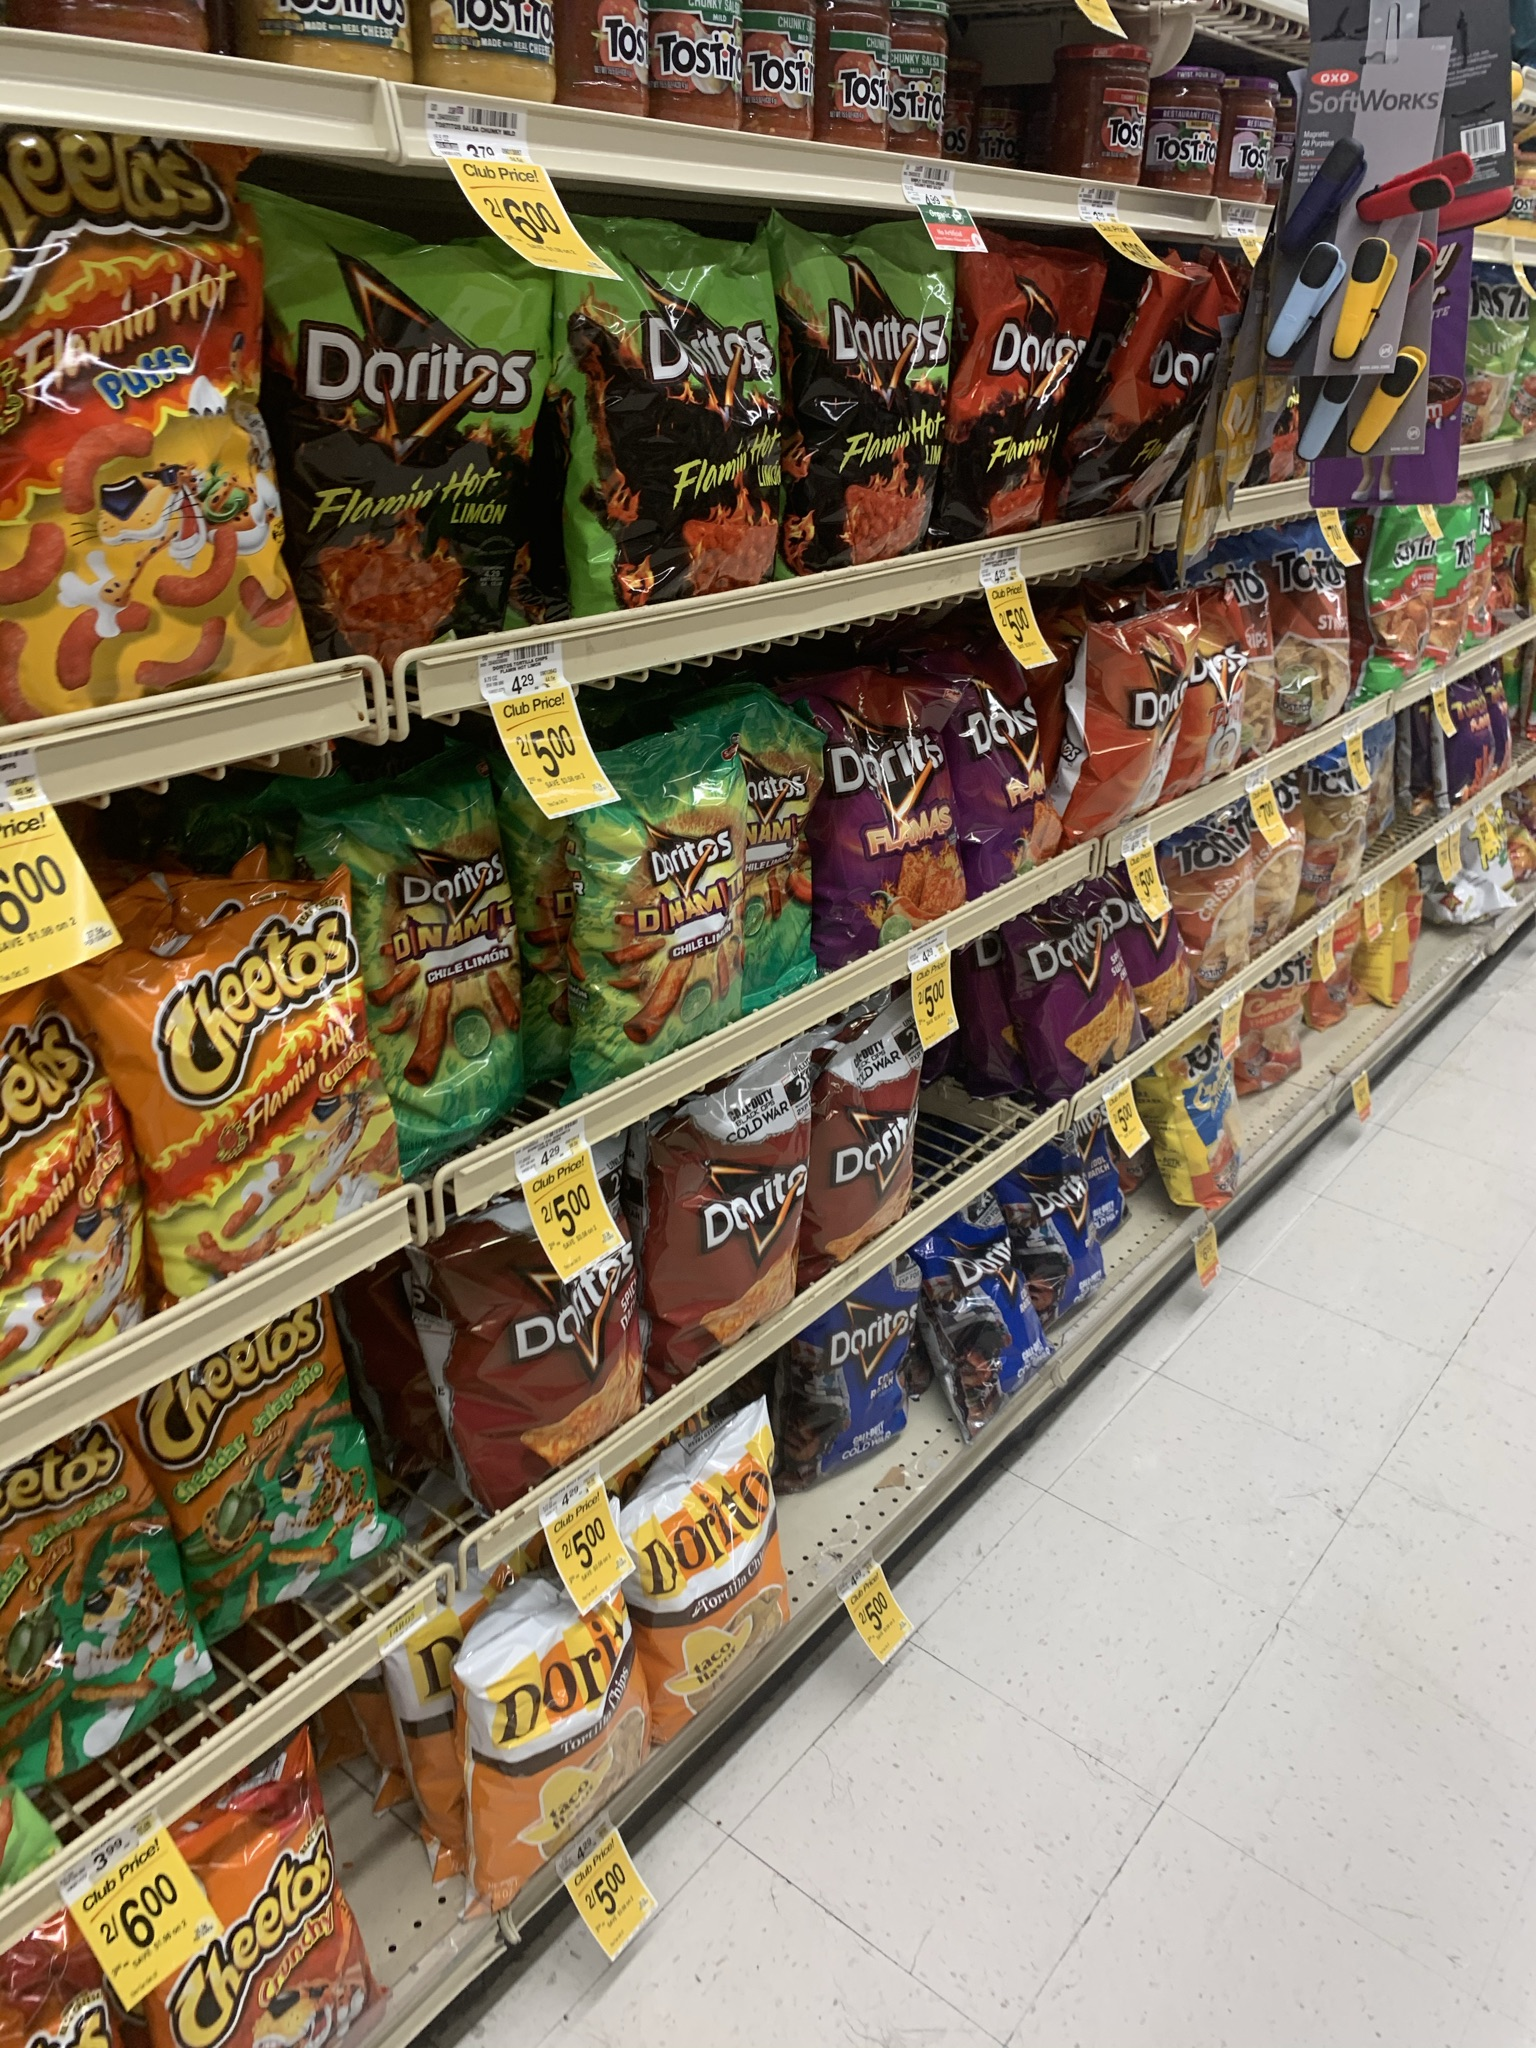chip: (3, 131, 292, 685), (265, 187, 553, 674), (74, 897, 397, 1280), (557, 214, 778, 619), (323, 792, 531, 1143), (127, 1272, 332, 1619), (765, 223, 952, 568), (566, 747, 750, 1072), (466, 1553, 637, 1900), (460, 1151, 626, 1498), (132, 1751, 315, 2048), (673, 1039, 812, 1385), (936, 227, 1084, 548), (645, 1414, 774, 1730), (1087, 266, 1239, 527), (820, 992, 950, 1279), (821, 705, 970, 935), (799, 1250, 937, 1480), (937, 655, 1073, 871), (1079, 622, 1207, 832), (1028, 889, 1113, 1101)
